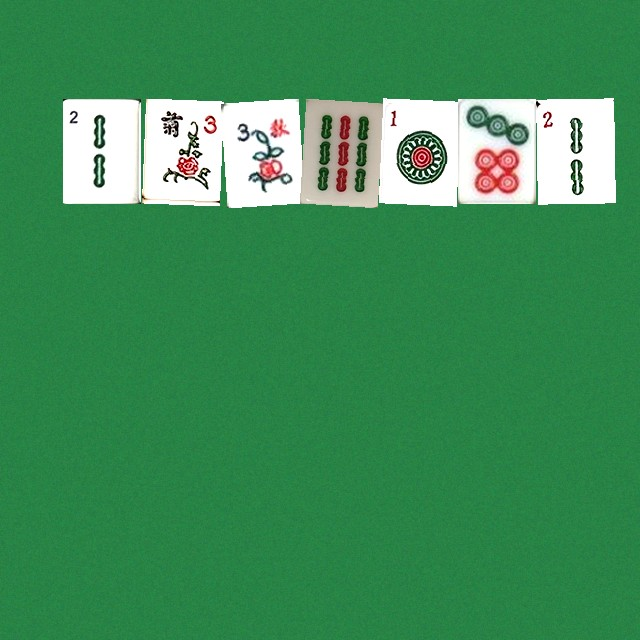tile: (62, 98, 140, 203), (141, 98, 219, 203), (220, 98, 298, 203), (299, 98, 377, 203), (378, 98, 456, 203), (457, 98, 535, 203), (536, 98, 614, 203)
